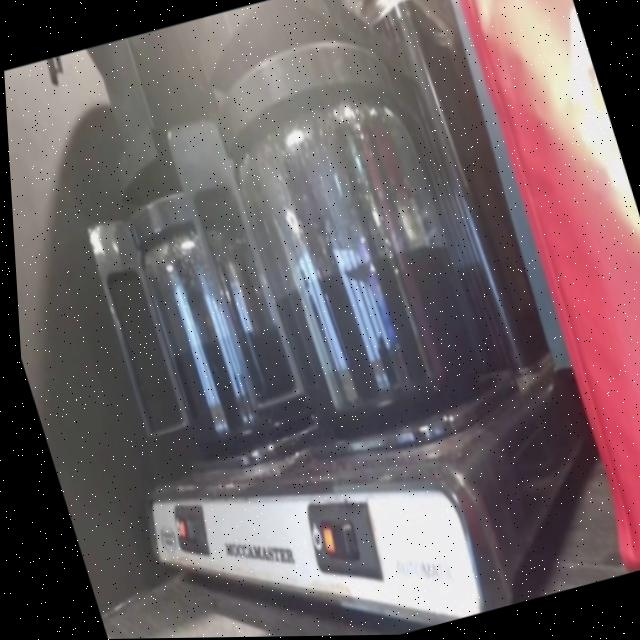coffee: (231, 129, 483, 436), (137, 239, 303, 456)
